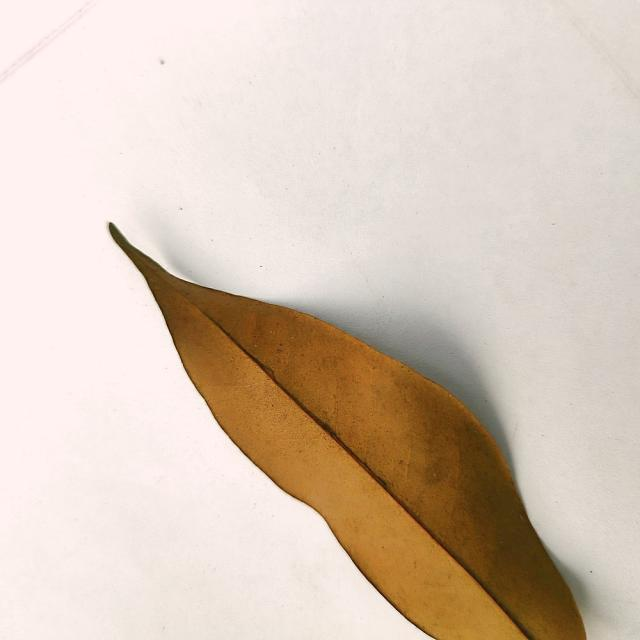Dry_Leaf-Lychee: (107, 225, 589, 639)
